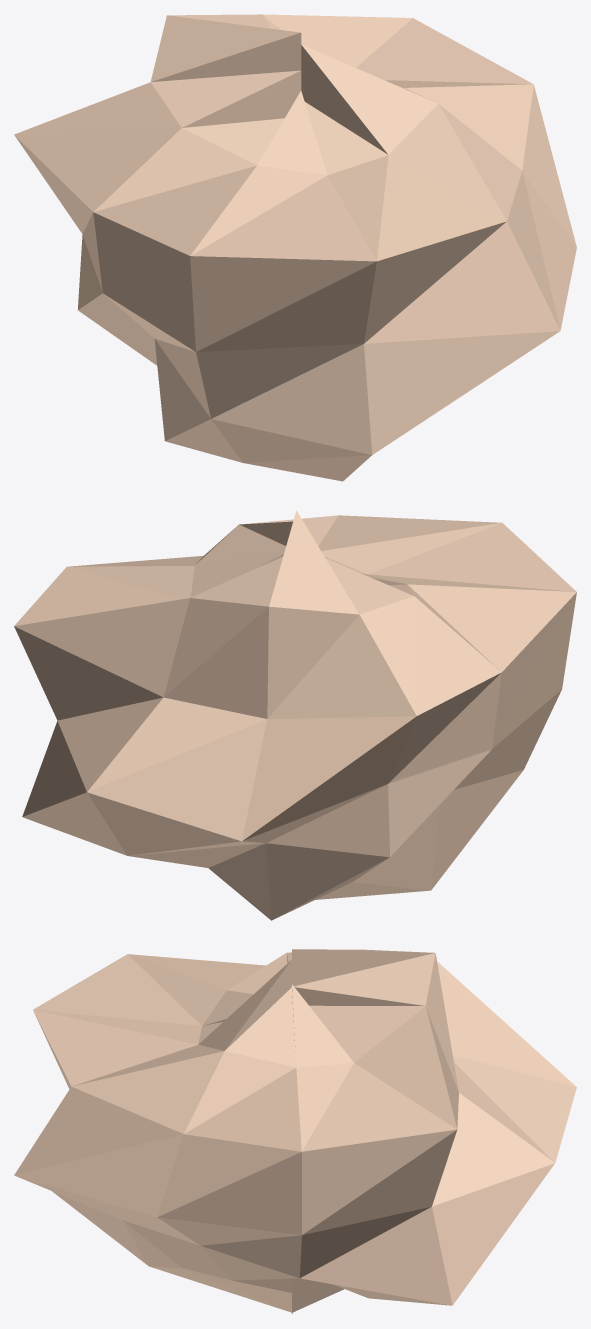
File: rock_052.obj
3 renders of one model, top to bottom at view 1: azimuth 30°, elevation 25°; view 2: azimuth 150°, elevation 25°; view 3: azimuth 270°, elevation 25°, orthographic. The views are drawn at different scales.
Size of the model in its own units: 0.4904 by 0.4291 by 0.5991.
